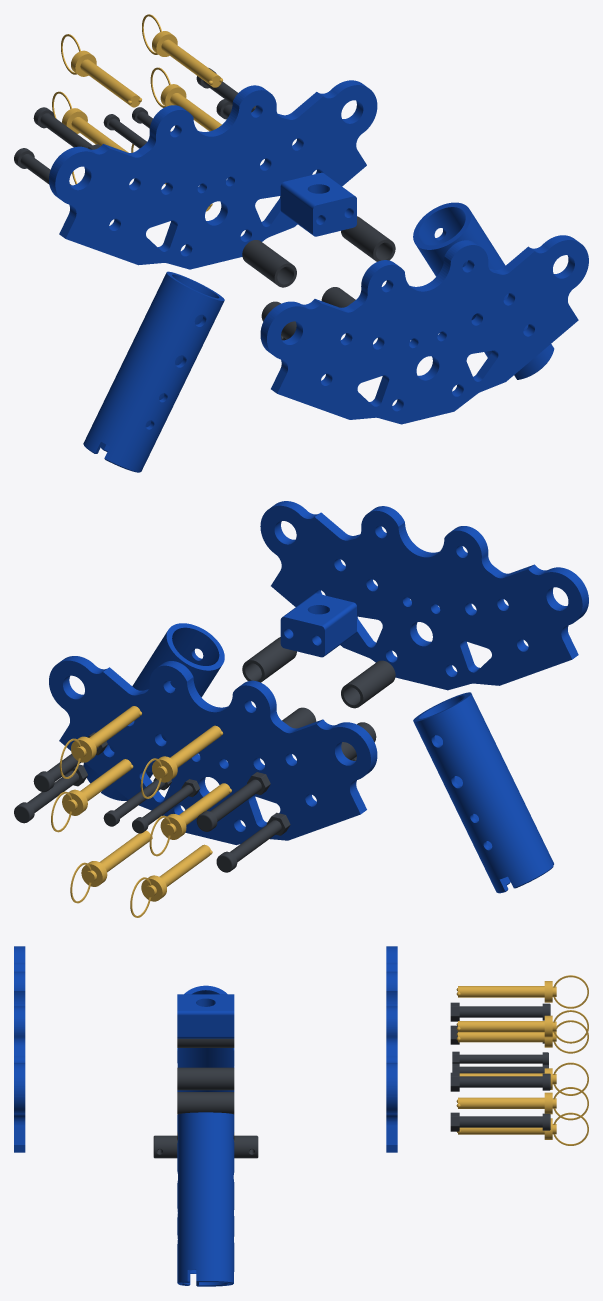
File: 00_cabeza_explotada.glb
The picture shows the model from 3 angles, top to bottom: view 1: azimuth 30°, elevation 25°; view 2: azimuth 150°, elevation 25°; view 3: azimuth 270°, elevation 25°; orthographic projection. The views are drawn at different scales.
Parts seen in each view (by area): view 1: placa_trasera, placa_delantera, cas_i, cas_d, bloque_c, sep_I1, pas_A1, pas_A2, sep_I2, pas_I2, pas_I1, perno_SI1 (+1 smaller); view 2: placa_trasera, placa_delantera, cas_i, cas_d, bloque_c, sep_I1, pas_I3, pas_A1, pas_A2, pas_I1, pas_I2, pas_I4 (+7 smaller); view 3: cas_d, bloque_c, placa_delantera, placa_trasera, cas_i, pas_A2, pas_A1, pas_I3, sep_I2, perno_SD1, perno_SD2, pas_I1 (+8 smaller).
Boxes of the visible parts, x1,y1,x2,y2 form: placa_trasera: (260, 235, 588, 424); placa_delantera: (49, 80, 377, 269); cas_i: (83, 271, 224, 472); cas_d: (413, 202, 554, 379); bloque_c: (280, 172, 356, 236); sep_I1: (242, 240, 296, 287); pas_A1: (61, 34, 141, 107); pas_A2: (142, 14, 222, 87); sep_I2: (341, 216, 395, 261); pas_I2: (150, 67, 221, 131); pas_I1: (52, 91, 128, 152); perno_SI1: (33, 107, 100, 149); placa_trasera: (260, 501, 588, 690); placa_delantera: (49, 656, 377, 845); cas_i: (413, 692, 553, 893); cas_d: (83, 623, 224, 800); bloque_c: (280, 593, 356, 657); sep_I1: (341, 660, 395, 708); pas_I3: (130, 844, 212, 917); pas_A1: (140, 725, 223, 798); pas_A2: (59, 706, 141, 778); pas_I1: (149, 783, 231, 856); pas_I2: (51, 759, 133, 832); pas_I4: (70, 830, 152, 903); cas_d: (177, 1112, 234, 1286); bloque_c: (177, 994, 234, 1038); placa_delantera: (386, 946, 397, 1152); placa_trasera: (14, 946, 25, 1152); cas_i: (177, 985, 234, 1091); pas_A2: (456, 1010, 588, 1043); pas_A1: (456, 975, 588, 1008); pas_I3: (456, 1087, 588, 1120); sep_I2: (177, 1067, 234, 1090); perno_SD1: (450, 1072, 550, 1091); perno_SD2: (450, 1112, 550, 1131); pas_I1: (456, 1020, 588, 1053).
Size of the model in its own units: 524 by 267 by 643.
